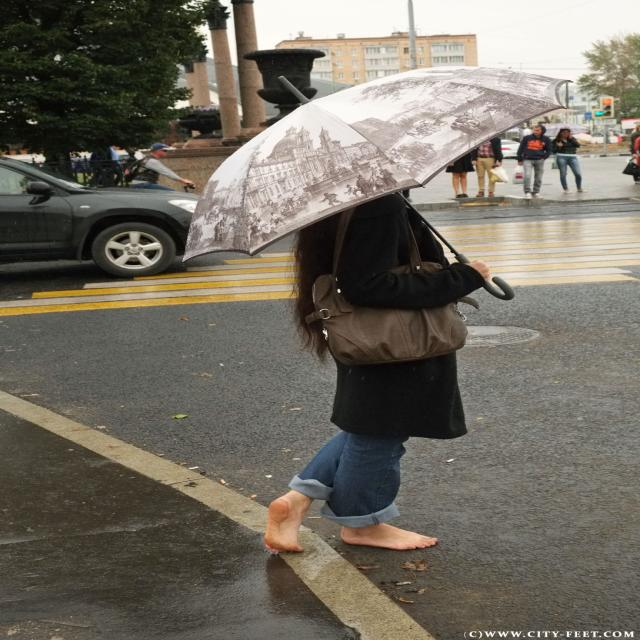Barefoots: (340, 523, 438, 549), (264, 496, 304, 553)
